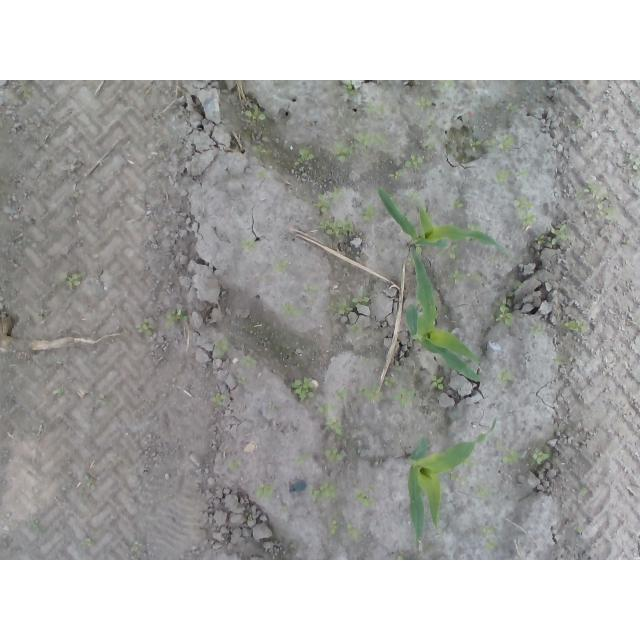Maize: (395, 413, 497, 555), (404, 246, 484, 385), (376, 183, 512, 256)
Weeds: (320, 217, 353, 239), (471, 134, 513, 150), (308, 482, 337, 501), (313, 193, 336, 215), (293, 377, 316, 399), (392, 389, 416, 408), (480, 527, 496, 553), (355, 133, 384, 147), (496, 304, 513, 327), (324, 417, 344, 436), (361, 384, 379, 401), (62, 274, 82, 289), (243, 109, 266, 122), (531, 451, 550, 466), (215, 337, 230, 356), (337, 143, 352, 162), (404, 154, 425, 167), (324, 448, 343, 462), (566, 320, 586, 333), (282, 303, 302, 316), (353, 489, 368, 506), (501, 450, 521, 462), (166, 313, 182, 328), (416, 96, 433, 110), (301, 149, 316, 163), (135, 320, 149, 335), (256, 484, 273, 496), (430, 376, 445, 389), (512, 196, 528, 208), (332, 302, 348, 314), (327, 517, 337, 536), (498, 370, 513, 382), (348, 525, 360, 540), (240, 356, 256, 367), (559, 224, 570, 240), (447, 244, 458, 260), (252, 146, 265, 159), (496, 170, 510, 182), (448, 269, 460, 283), (240, 239, 256, 249), (363, 204, 373, 220), (227, 460, 241, 471), (276, 259, 287, 273), (351, 296, 370, 304), (321, 403, 336, 413), (350, 323, 362, 335), (521, 215, 535, 225), (369, 103, 383, 113), (531, 235, 545, 245), (385, 377, 398, 387), (453, 199, 464, 210), (212, 393, 223, 403), (336, 390, 347, 400), (31, 519, 42, 529), (52, 387, 64, 396), (343, 83, 353, 93), (531, 325, 541, 335), (589, 183, 599, 193), (479, 488, 489, 497), (389, 172, 400, 180), (238, 377, 247, 384)
